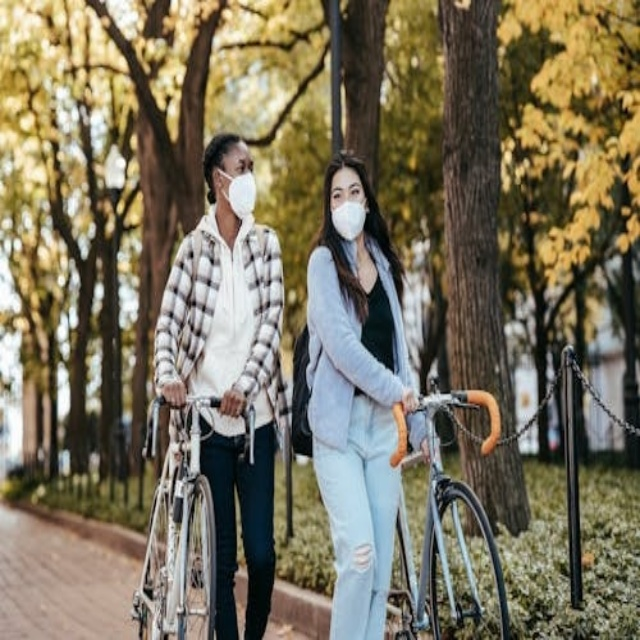Mascara: (218, 169, 257, 219), (330, 199, 368, 241)
Sin_gafas: (330, 177, 362, 196), (227, 156, 259, 173)
Sin_guantes: (219, 382, 248, 419), (159, 371, 186, 409)
